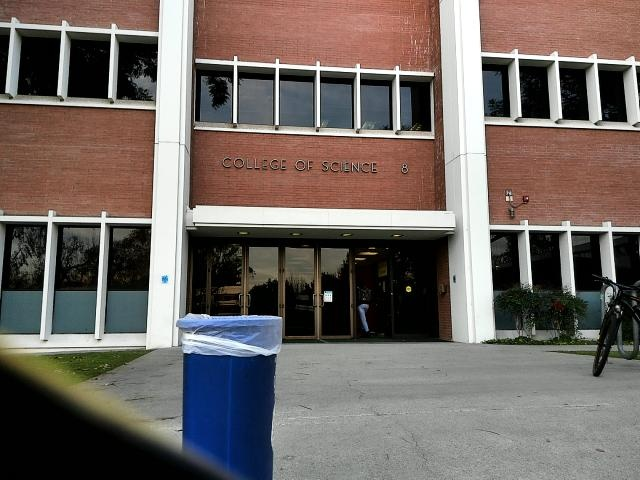trashcan_open: (173, 306, 286, 480)
